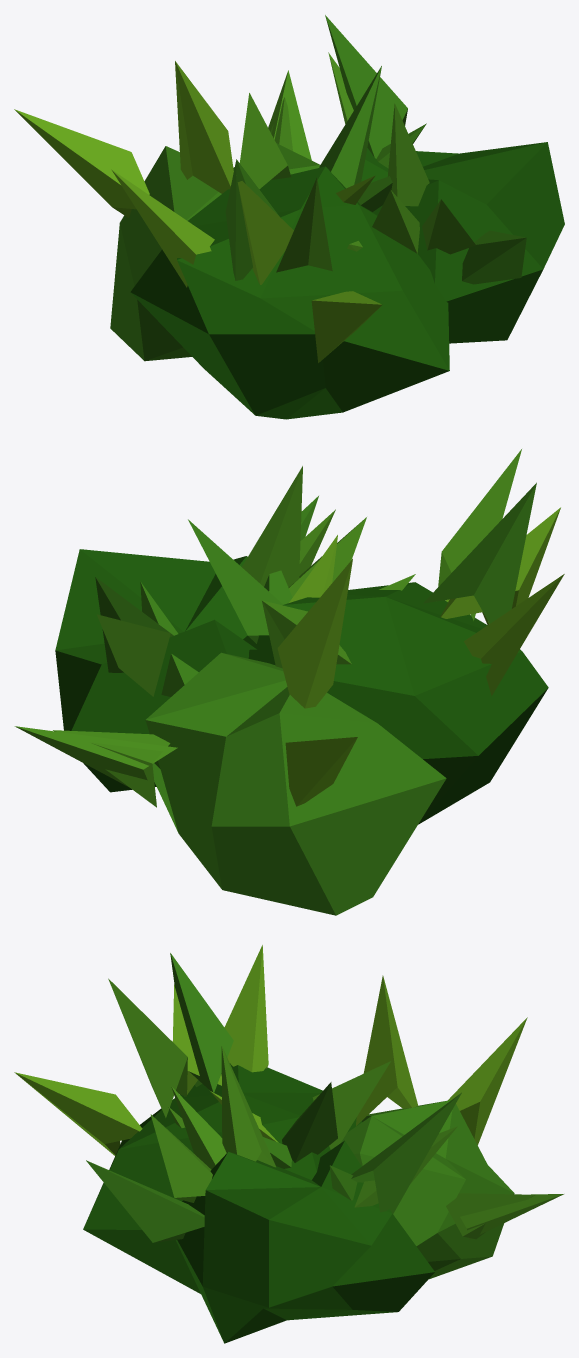
The model's file is shrub_a.gltf.
3 renders of one model, top to bottom at view 1: azimuth 30°, elevation 25°; view 2: azimuth 150°, elevation 25°; view 3: azimuth 270°, elevation 25°, orthographic. The views are drawn at different scales.
Parts seen in each view (by area): view 1: shrub_a; view 2: shrub_a; view 3: shrub_a.
Boxes of the visible parts, x1,y1,x2,y2 form: shrub_a: (14,15,564,419); shrub_a: (14,449,564,915); shrub_a: (14,945,563,1343).
Bounding box in the file's own units: 1.22 × 0.8119 × 1.37.
